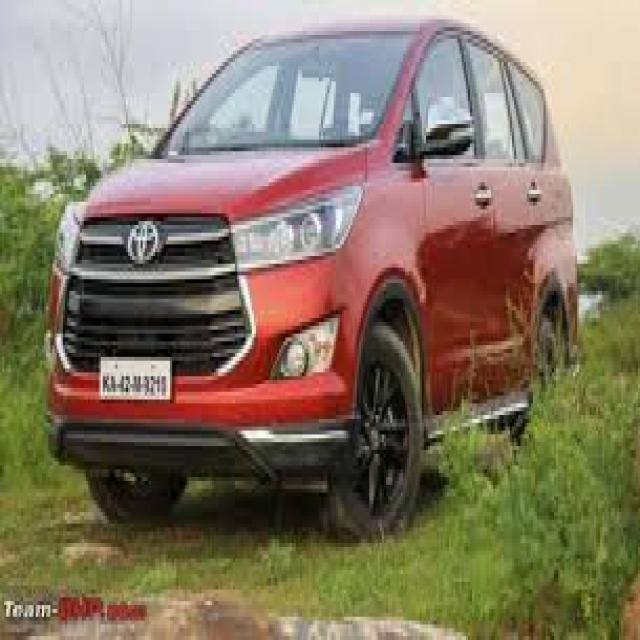light_vehicle: (49, 17, 578, 543)
